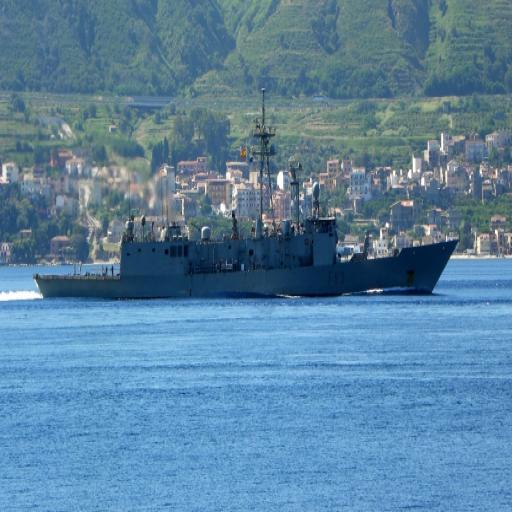Fragata: (31, 85, 466, 306)
